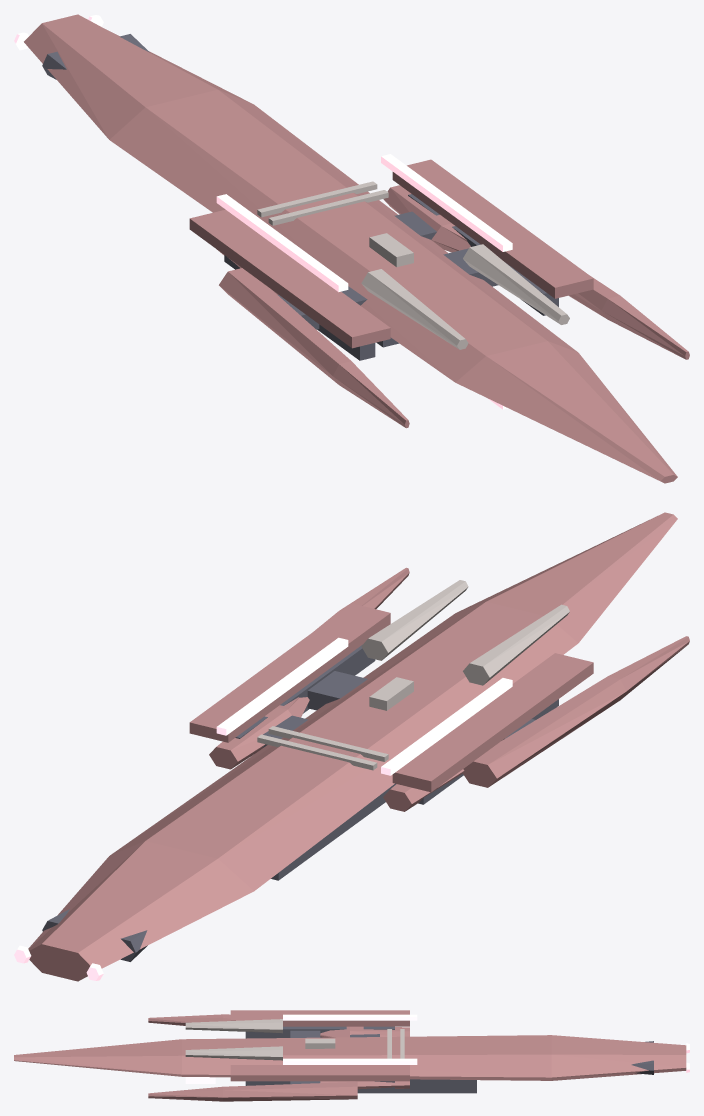
The picture shows the model from 3 angles, top to bottom: view 1: azimuth 30°, elevation 25°; view 2: azimuth 150°, elevation 25°; view 3: azimuth 270°, elevation 25°; orthographic projection. The views are drawn at different scales.
Bounding box in the file's own units: 5.41 × 1.62 × 19.55.
